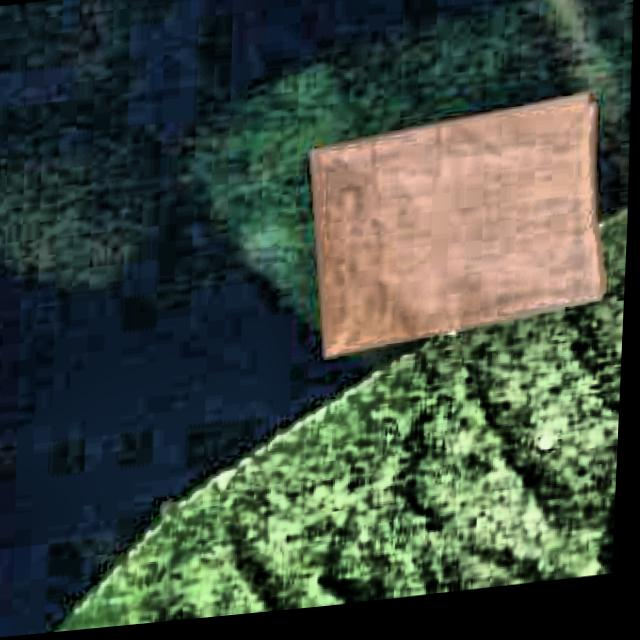Paper-bag: (298, 85, 625, 369)
